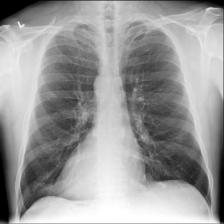normal: (15, 19, 216, 220)
